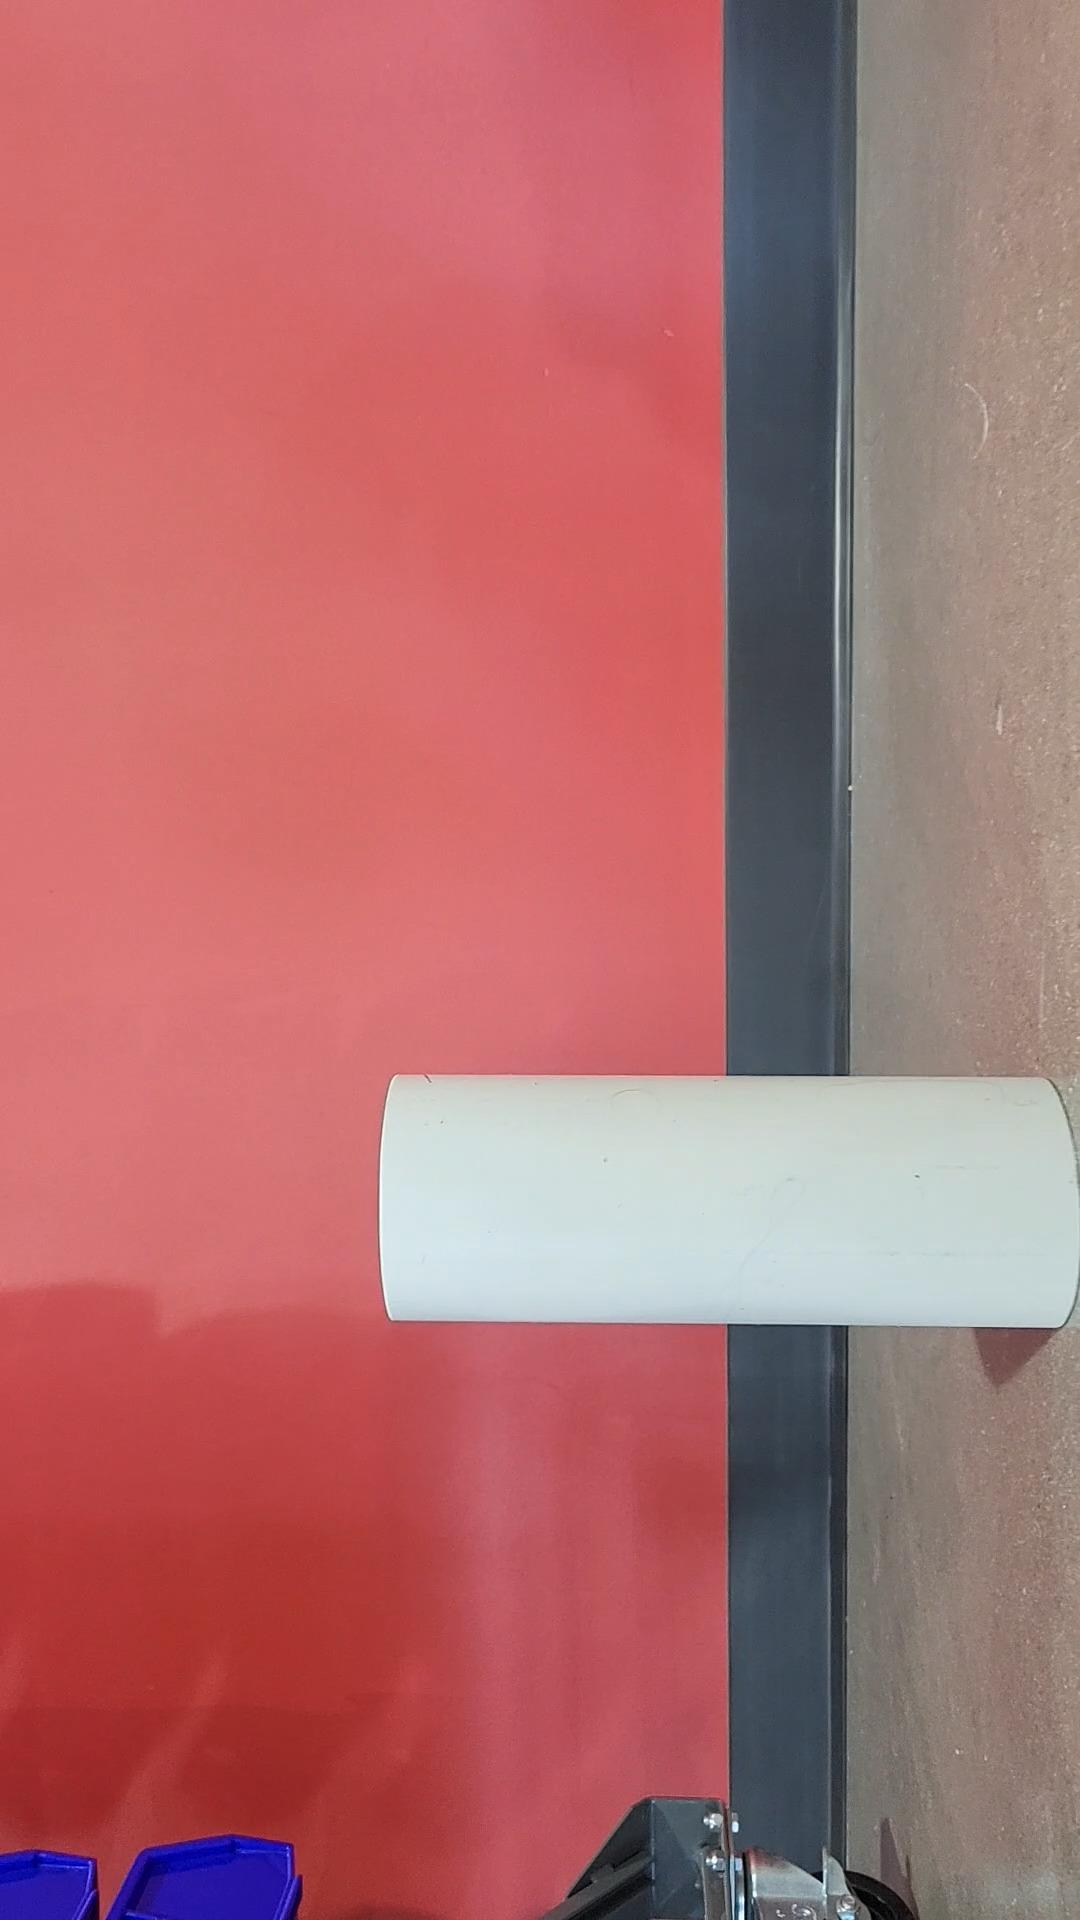coral: (373, 1071, 1080, 1344)
